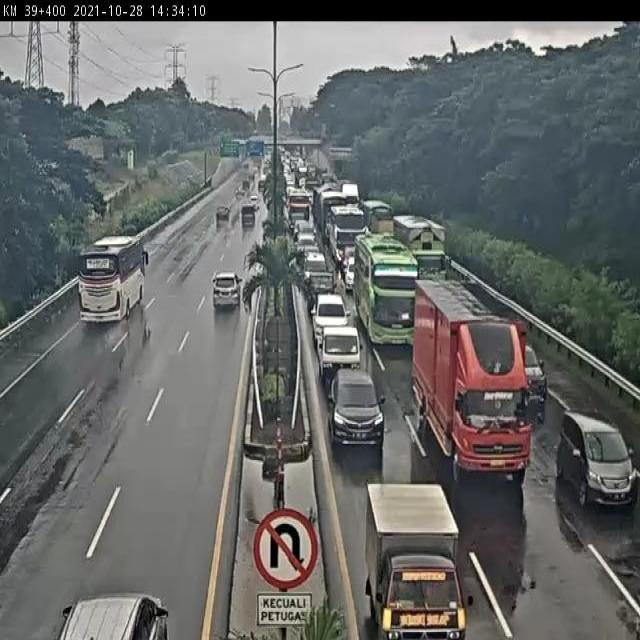bus-l-: (356, 241, 417, 347), (81, 234, 151, 326), (330, 208, 366, 265)
car: (365, 474, 468, 640), (556, 417, 635, 508), (328, 371, 385, 449), (504, 337, 550, 411), (322, 328, 365, 380), (311, 297, 350, 336), (210, 272, 245, 315), (303, 269, 336, 304), (303, 250, 328, 270), (342, 252, 357, 285), (297, 234, 317, 258), (293, 218, 316, 238)
truck-l-: (409, 275, 524, 464), (392, 216, 453, 292)
